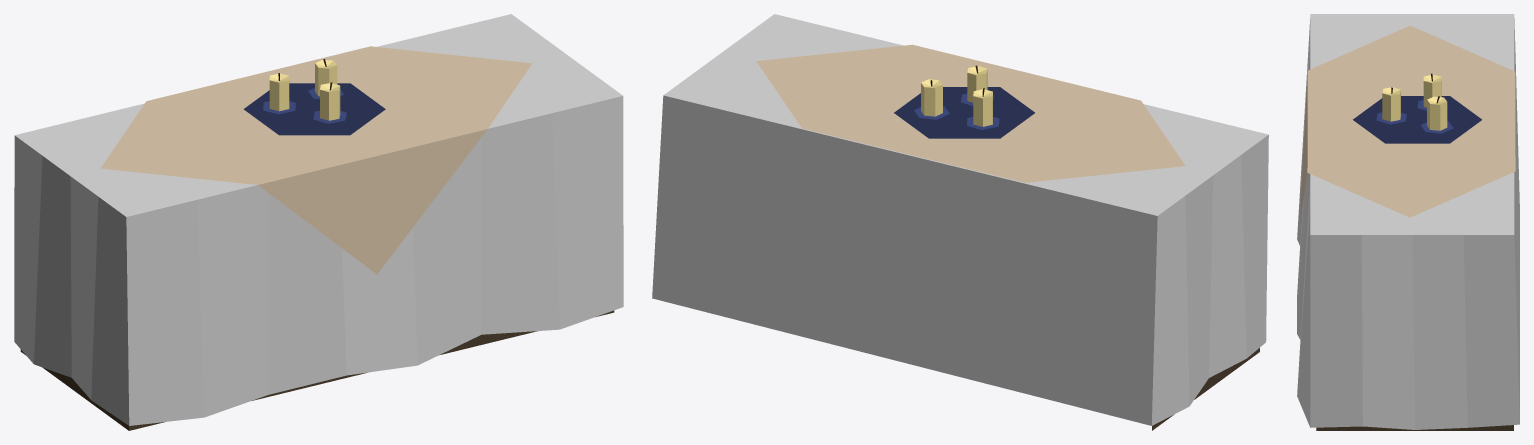
Rendered from ChurchLargeTable.glb.
The picture shows the model from 3 angles, left to right: view 1: azimuth 30°, elevation 25°; view 2: azimuth 150°, elevation 25°; view 3: azimuth 270°, elevation 25°; orthographic projection. The views are drawn at different scales.
Visible parts, largest first — view 1: CandlesTable; view 2: CandlesTable; view 3: CandlesTable.
Boxes of the visible parts, left/top/right/bottom form: CandlesTable: left=14, top=14, right=623, bottom=430; CandlesTable: left=652, top=14, right=1268, bottom=430; CandlesTable: left=1297, top=14, right=1519, bottom=430.
Size of the model in its own units: 1.81 by 0.8713 by 0.7441.
1 material, 1 textured.
